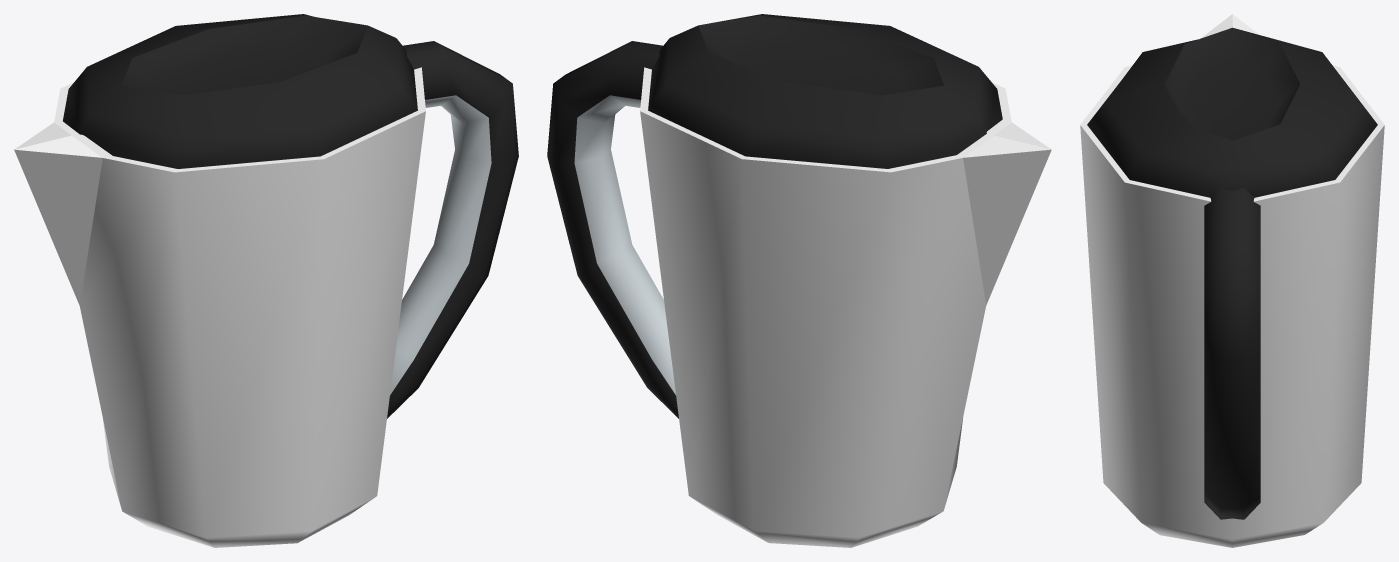
The model's file is prop_038.fbx.
3 renders of one model, left to right at view 1: azimuth 30°, elevation 25°; view 2: azimuth 150°, elevation 25°; view 3: azimuth 270°, elevation 25°, orthographic. The views are drawn at different scales.
Visible parts, largest first — view 1: prop_038; view 2: prop_038; view 3: prop_038.
Boxes of the visible parts, x1,y1,x2,y2 form: prop_038: (14, 14, 518, 547); prop_038: (547, 14, 1051, 547); prop_038: (1080, 14, 1384, 547).
Size of the model in its own units: 53.79 by 30.26 by 46.15.
